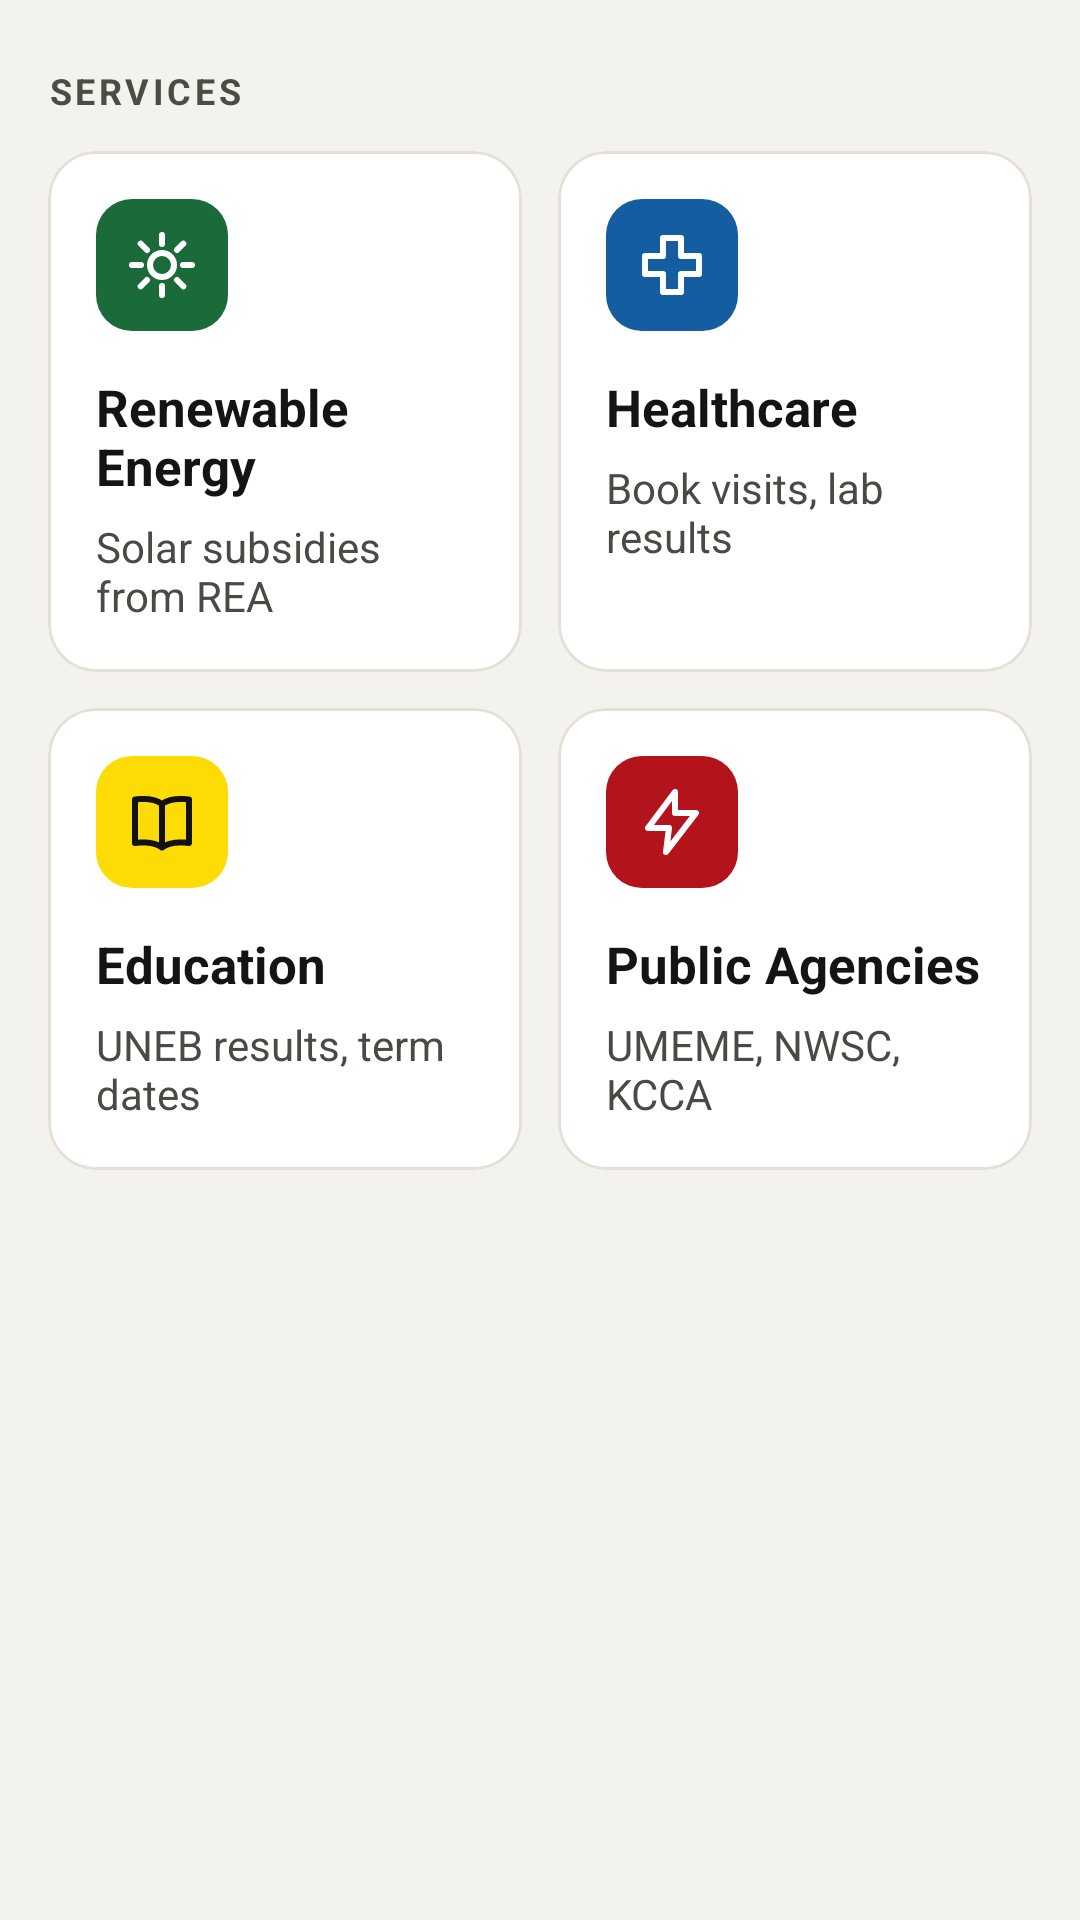

Screen size 1080*1920. Icon name, then its box in pixels as [x1=x1, y1=y1, x2=x2, y2=y2]:
bolt: [x1=606, y1=756, x2=738, y2=888]
book: [x1=96, y1=756, x2=228, y2=888]
health cross: [x1=606, y1=199, x2=738, y2=331]
sun: [x1=96, y1=199, x2=228, y2=331]
